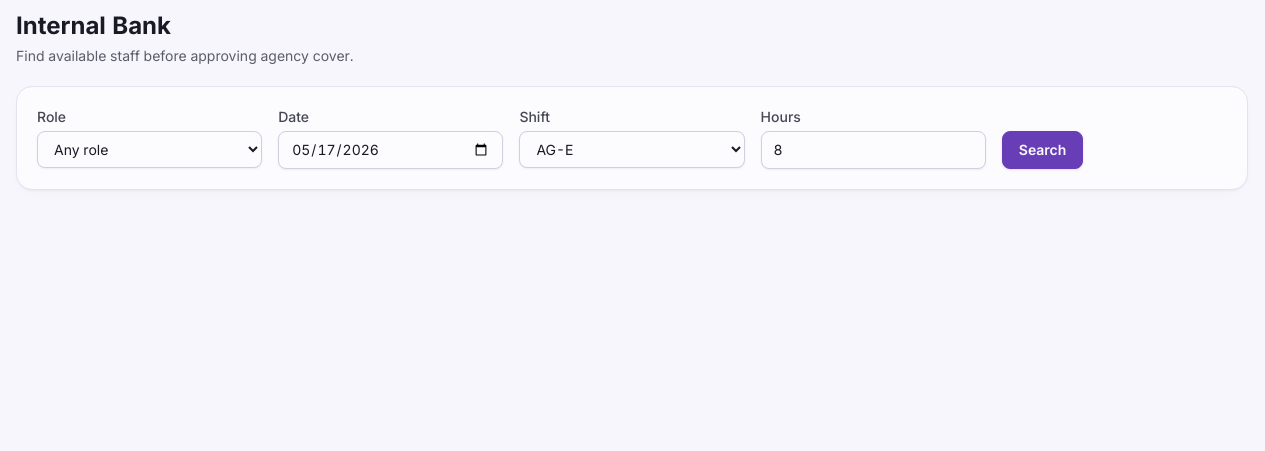
Test: InternalBank › renders candidate counts and narrow eligibility details
Click the button "Search": (1043, 150) [1002, 131, 1083, 169]
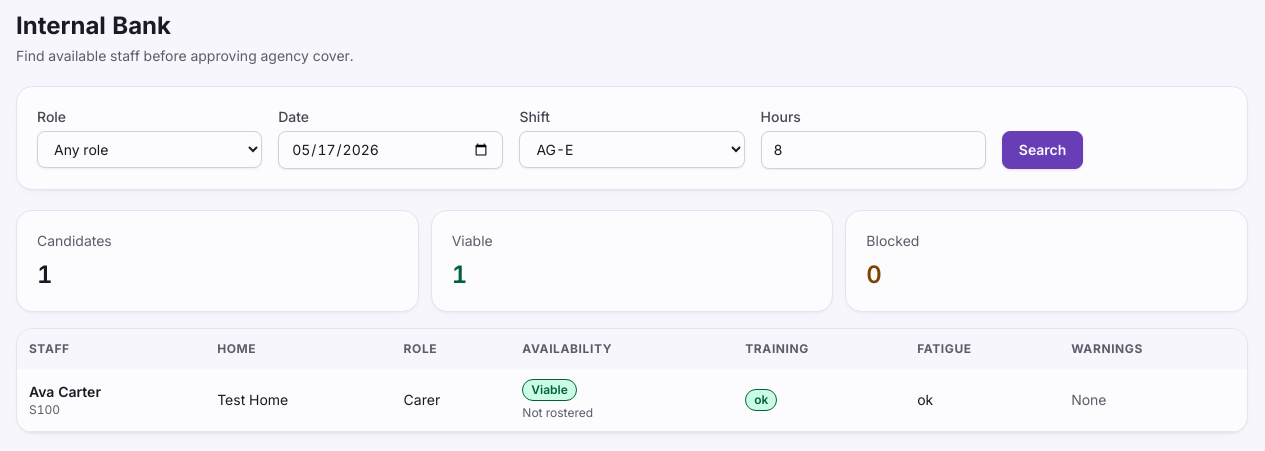
Now the text "Ava Carter" is shown, box [29, 383, 101, 400]
Now the text "Candidates" is shown, box [37, 232, 112, 249]
Now the text "None" is shown, box [1071, 391, 1107, 408]
